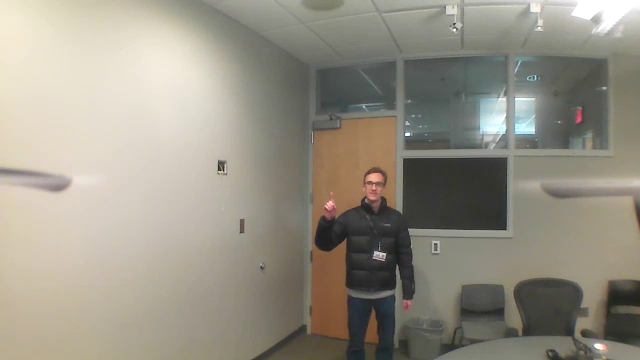up: (322, 190, 339, 220)
